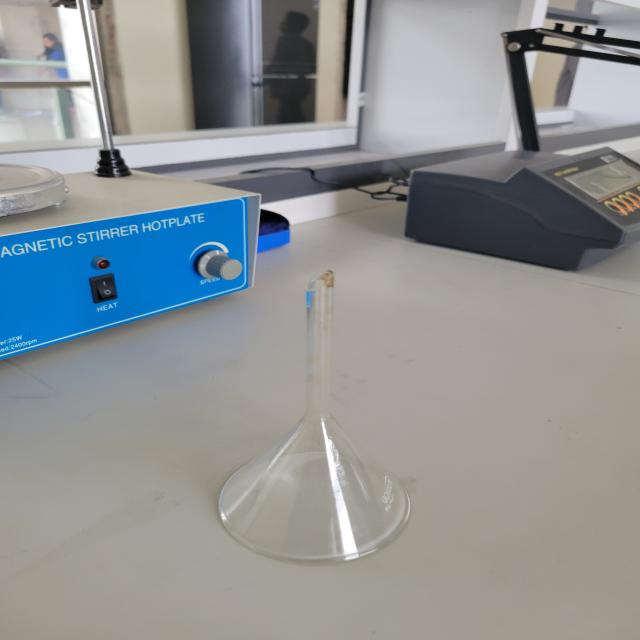Funnel: (183, 240, 458, 594)
